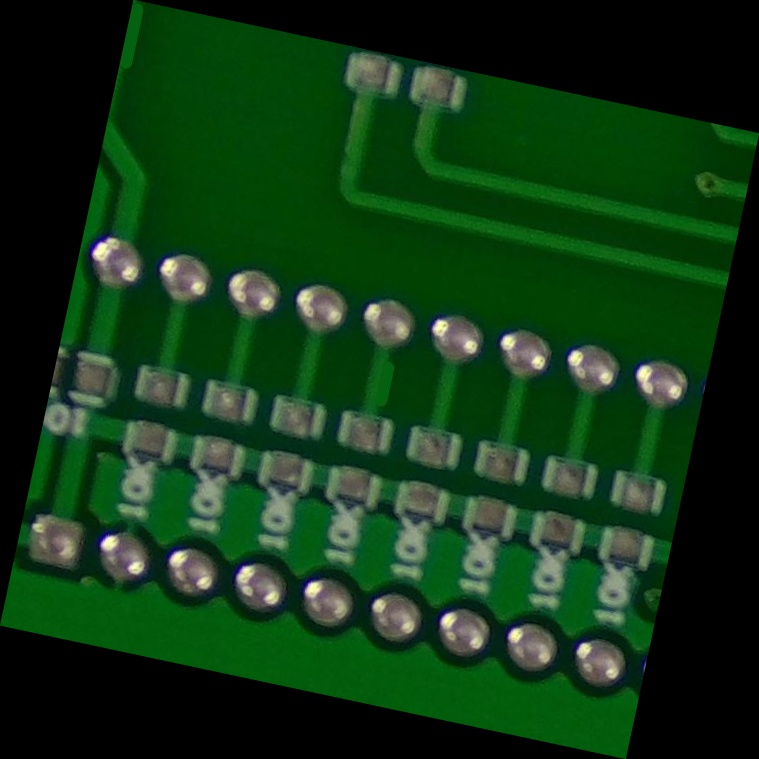spur: (351, 344, 408, 415)
